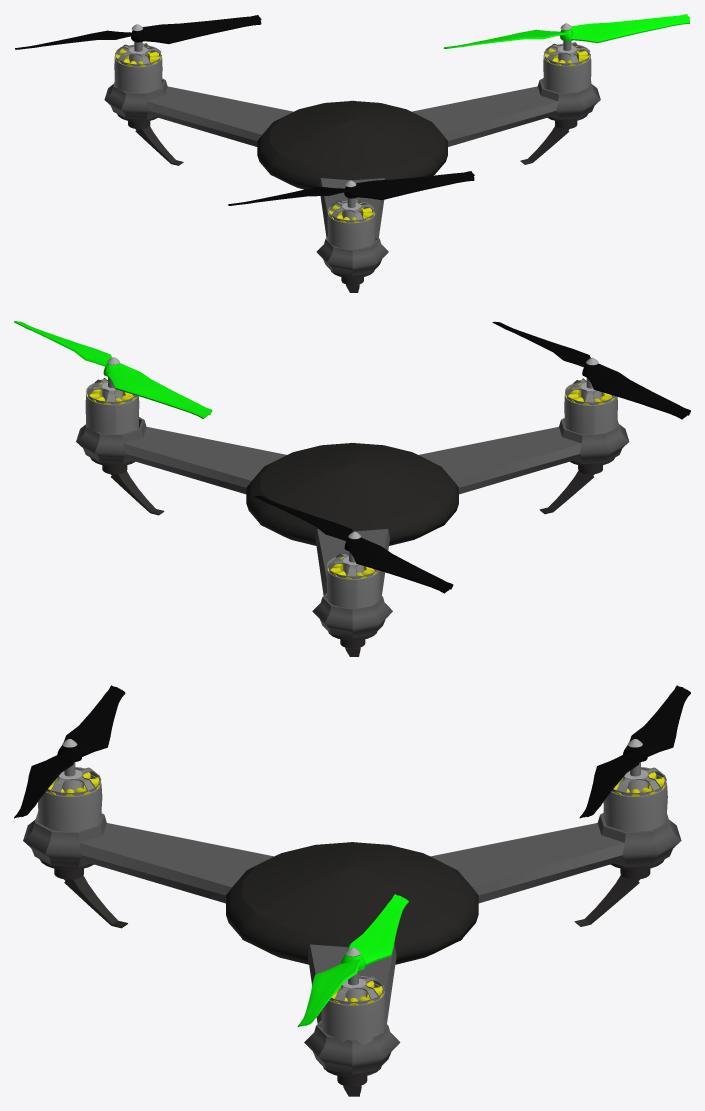
File: uav2.fbx
3 renders of one model, top to bottom at view 1: azimuth 30°, elevation 25°; view 2: azimuth 150°, elevation 25°; view 3: azimuth 270°, elevation 25°, orthographic. The views are drawn at different scales.
Parts seen in each view (by area): view 1: pCylinder44, polySurface48, polySurface49, polySurface46, pCylinder48, pCylinder49, pCylinder46; view 2: pCylinder44, polySurface49, polySurface48, polySurface46, pCylinder48, pCylinder49, pCylinder46; view 3: pCylinder44, polySurface46, polySurface48, polySurface49, pCylinder48, pCylinder49, pCylinder46.
Boxes of the visible parts, x1,y1,x2,y2 form: pCylinder44: [104, 78, 600, 292]; polySurface48: [443, 14, 690, 48]; polySurface49: [228, 171, 474, 205]; polySurface46: [15, 15, 261, 49]; pCylinder48: [543, 41, 591, 93]; pCylinder49: [327, 198, 375, 249]; pCylinder46: [114, 41, 162, 93]; pCylinder44: [76, 417, 629, 656]; polySurface49: [492, 321, 690, 419]; polySurface48: [14, 321, 212, 418]; polySurface46: [255, 495, 453, 593]; pCylinder48: [85, 377, 139, 434]; pCylinder49: [564, 377, 617, 434]; pCylinder46: [326, 551, 380, 608]; pCylinder44: [23, 811, 681, 1096]; polySurface46: [579, 685, 690, 818]; polySurface48: [297, 894, 408, 1026]; polySurface49: [14, 685, 125, 818]; pCylinder48: [321, 971, 385, 1045]; pCylinder49: [38, 762, 102, 831]; pCylinder46: [603, 762, 667, 831].
Size of the model in its own units: 27.28 by 6.34 by 22.62.
